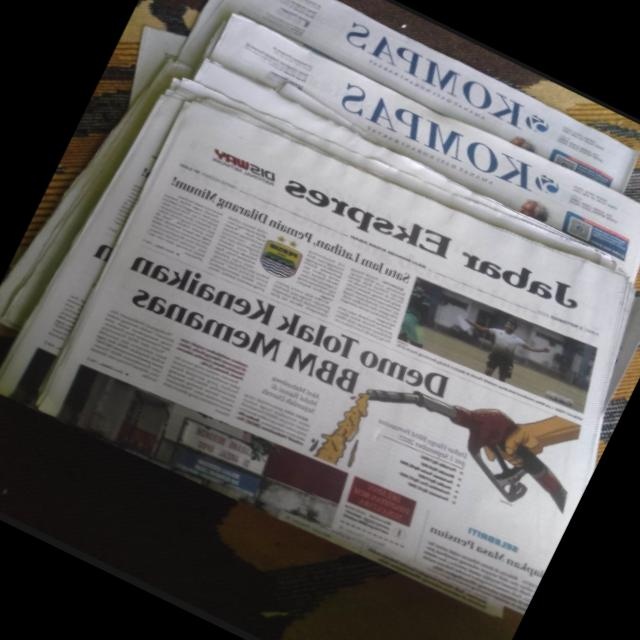Koran: (0, 0, 640, 640), (347, 332, 602, 526)
